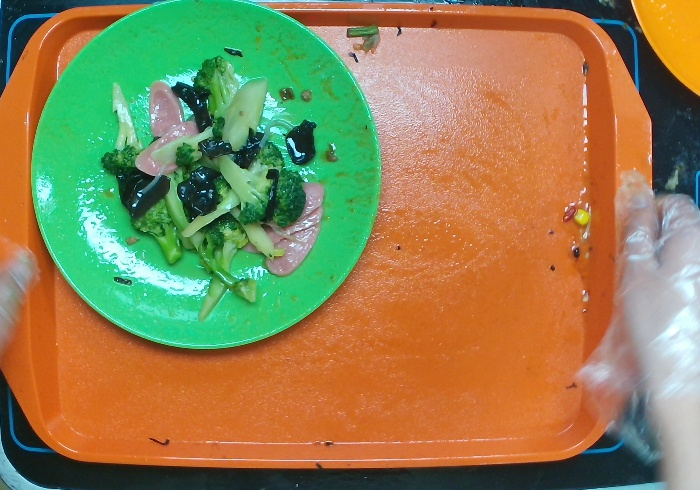HZYJPL-Lv_Se_Yuan_Pan: (28, 1, 384, 354)
